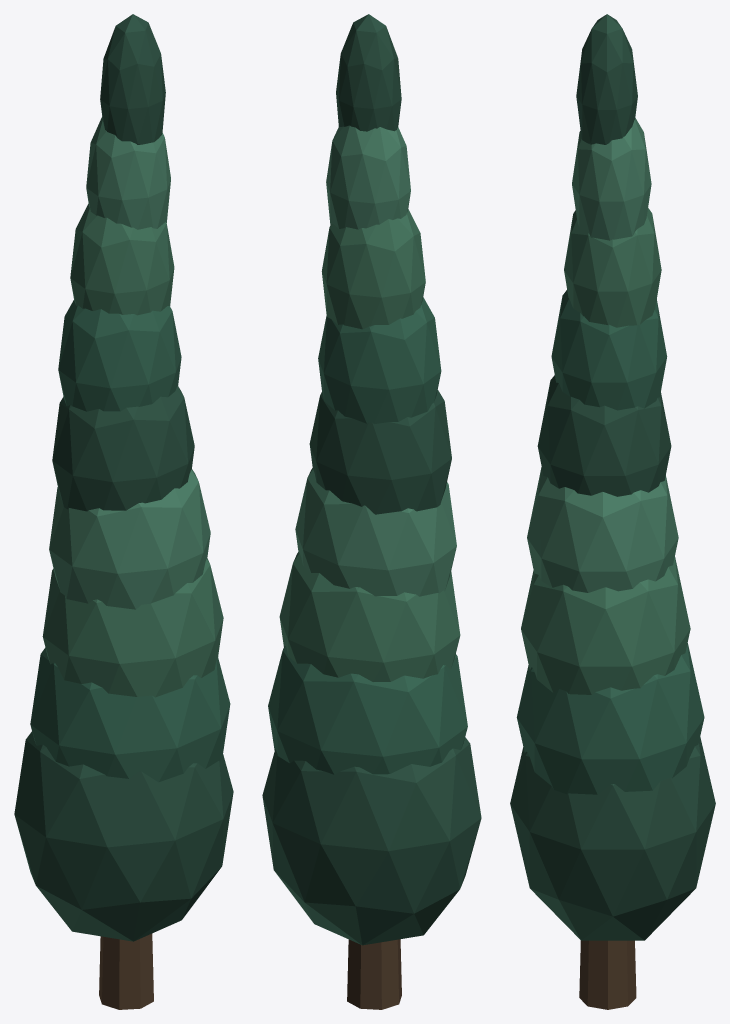
Rendered from cypress-reference-v1.glb.
3 views of the same model, side by side, from view 1: azimuth 30°, elevation 25°; view 2: azimuth 150°, elevation 25°; view 3: azimuth 270°, elevation 25° (orthographic).
Visible parts, largest first — view 1: Cypress foliage, Cypress foliage.001, Cypress foliage.002, Cypress foliage.003, Cypress foliage.004, Cypress foliage.005, Cypress foliage.006, Cypress foliage.007, Cypress foliage.008, Branch.010; view 2: Cypress foliage, Cypress foliage.001, Cypress foliage.002, Cypress foliage.003, Cypress foliage.004, Cypress foliage.005, Cypress foliage.006, Cypress foliage.007, Cypress foliage.008, Branch.010; view 3: Cypress foliage, Cypress foliage.001, Cypress foliage.002, Cypress foliage.003, Cypress foliage.004, Cypress foliage.005, Cypress foliage.006, Cypress foliage.007, Cypress foliage.008, Branch.010.
Boxes of the visible parts, <box> form: Cypress foliage: <box>14,731,233,941</box>; Cypress foliage.001: <box>30,647,230,782</box>; Cypress foliage.002: <box>42,558,223,697</box>; Cypress foliage.003: <box>49,469,210,609</box>; Cypress foliage.004: <box>52,386,194,511</box>; Cypress foliage.005: <box>58,300,181,411</box>; Cypress foliage.006: <box>70,203,174,315</box>; Cypress foliage.007: <box>86,116,170,229</box>; Cypress foliage.008: <box>100,14,165,144</box>; Branch.010: <box>99,933,153,1009</box>; Cypress foliage: <box>262,737,481,945</box>; Cypress foliage.001: <box>268,646,467,774</box>; Cypress foliage.002: <box>279,552,460,681</box>; Cypress foliage.003: <box>295,468,456,596</box>; Cypress foliage.004: <box>309,390,451,514</box>; Cypress foliage.005: <box>318,297,441,424</box>; Cypress foliage.006: <box>321,209,425,329</box>; Cypress foliage.007: <box>326,125,410,229</box>; Cypress foliage.008: <box>336,14,401,131</box>; Branch.010: <box>347,939,401,1009</box>; Cypress foliage: <box>510,737,715,940</box>; Cypress foliage.001: <box>516,643,704,794</box>; Cypress foliage.002: <box>521,557,690,694</box>; Cypress foliage.003: <box>527,467,678,592</box>; Cypress foliage.004: <box>537,375,671,496</box>; Cypress foliage.005: <box>551,290,667,410</box>; Cypress foliage.006: <box>564,208,661,327</box>; Cypress foliage.007: <box>572,118,651,240</box>; Cypress foliage.008: <box>576,14,637,144</box>; Branch.010: <box>579,940,636,1009</box>.
Bounding box in the file's own units: 1.07 × 5.33 × 1.01.
